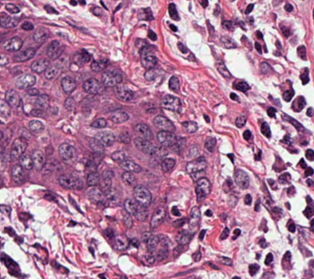nucleus: (186, 157, 206, 180), (139, 46, 157, 68), (133, 185, 151, 206), (10, 137, 26, 160), (195, 177, 210, 201), (134, 137, 155, 154), (58, 143, 76, 162), (157, 130, 177, 147), (83, 78, 104, 94), (153, 115, 174, 131), (58, 175, 82, 189), (46, 40, 63, 59), (13, 47, 35, 61), (72, 49, 90, 66), (134, 123, 152, 140), (161, 95, 180, 111), (44, 64, 64, 79), (95, 130, 115, 145), (3, 36, 22, 51), (102, 71, 121, 86), (11, 164, 26, 183), (234, 169, 249, 188), (15, 74, 35, 88), (150, 207, 164, 227), (120, 159, 141, 172), (87, 186, 104, 202), (115, 86, 133, 101), (31, 150, 45, 169), (105, 187, 119, 206), (101, 168, 113, 190), (5, 89, 20, 106), (31, 59, 49, 73), (146, 235, 159, 254), (61, 76, 75, 93), (124, 198, 138, 215), (110, 110, 128, 123), (33, 27, 48, 42), (19, 154, 33, 170), (189, 207, 199, 229), (35, 94, 49, 109), (89, 137, 103, 152), (114, 234, 128, 249), (134, 204, 147, 220), (171, 138, 185, 152), (121, 171, 135, 185), (87, 171, 100, 186), (220, 36, 236, 48), (90, 59, 106, 71), (217, 63, 230, 77), (29, 120, 43, 133), (111, 150, 126, 162), (176, 232, 191, 244), (0, 100, 10, 117), (122, 210, 132, 227), (161, 158, 174, 171), (85, 158, 97, 172), (168, 76, 179, 91), (182, 121, 197, 132), (233, 81, 249, 91), (144, 68, 157, 80), (204, 137, 215, 151), (153, 146, 167, 157), (91, 118, 106, 128), (261, 122, 270, 137), (235, 115, 246, 127), (144, 252, 155, 264), (223, 178, 232, 192), (260, 62, 271, 73), (135, 39, 147, 49), (119, 131, 129, 143), (218, 256, 231, 265), (173, 218, 187, 226), (31, 107, 43, 116), (228, 194, 237, 206), (0, 205, 10, 215), (27, 87, 38, 96), (249, 264, 258, 275), (267, 179, 276, 189), (148, 29, 156, 40), (220, 228, 228, 239), (178, 43, 187, 52), (267, 107, 275, 117), (243, 130, 251, 140), (0, 54, 7, 65), (193, 250, 200, 261), (265, 253, 272, 264), (244, 194, 251, 204), (230, 93, 238, 101), (142, 232, 150, 240), (233, 229, 240, 238), (259, 238, 266, 247), (255, 42, 261, 52), (172, 207, 179, 215), (199, 230, 205, 239), (227, 154, 233, 162), (255, 150, 260, 159), (255, 199, 259, 210), (256, 31, 262, 38), (205, 210, 211, 215), (204, 115, 208, 121)
